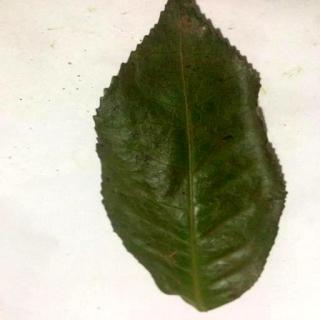Red Leaf Spot: (98, 1, 287, 312)
